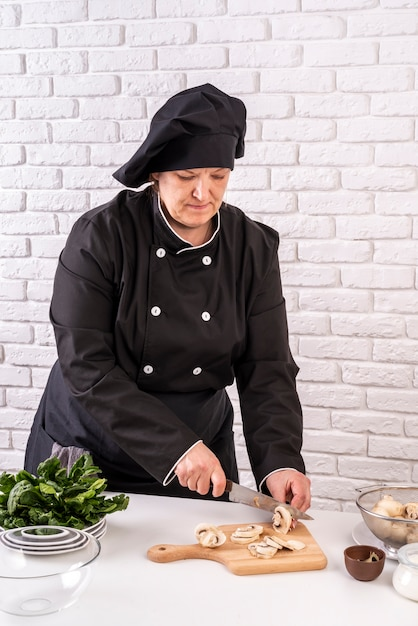knife: (224, 478, 315, 523)
